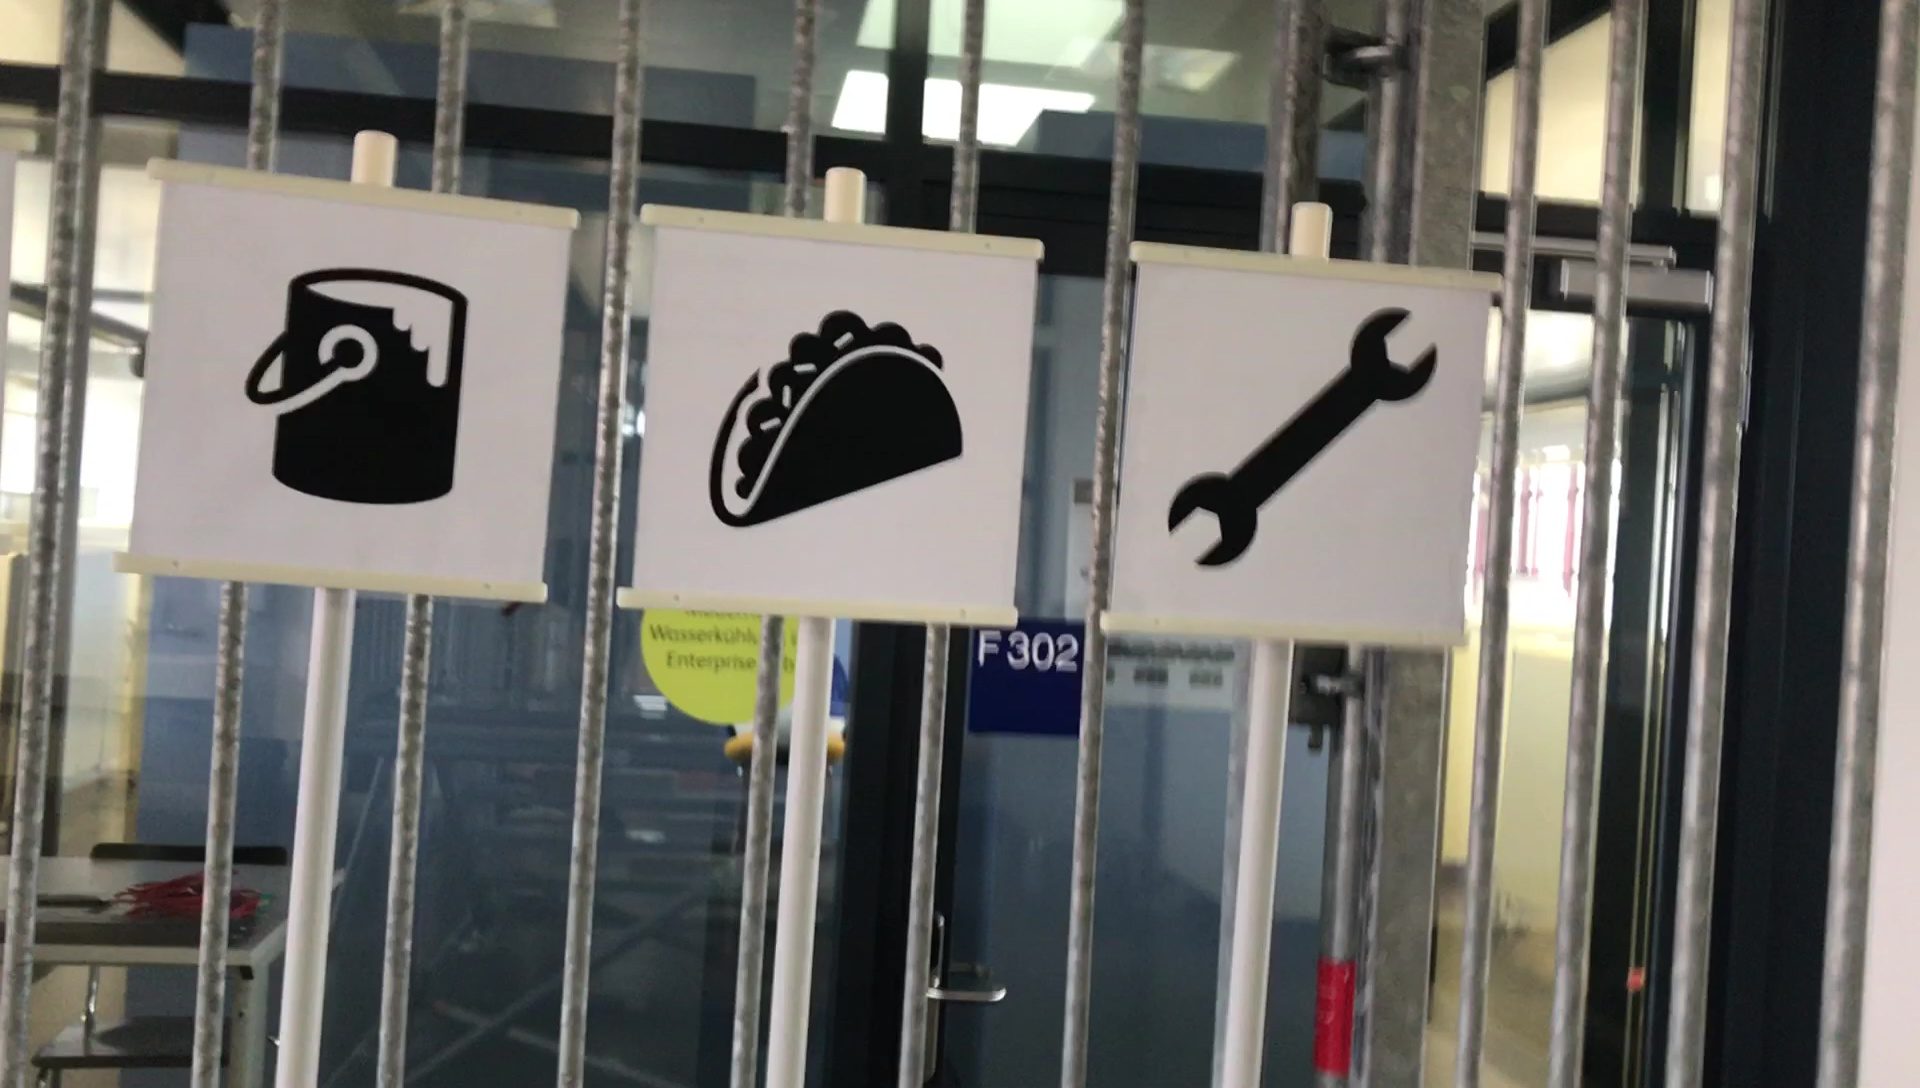bucket: (235, 261, 491, 508)
taco: (709, 307, 971, 530)
wrench: (1166, 302, 1437, 572)
